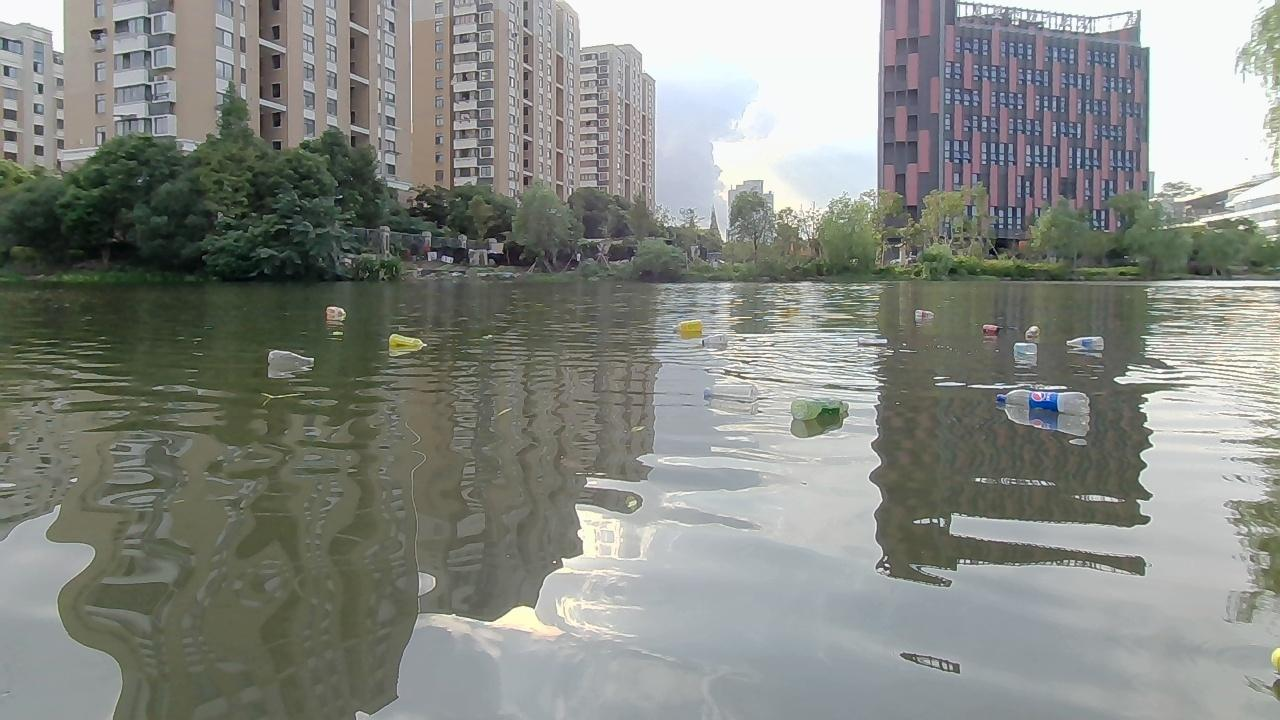bottle: (998, 383, 1086, 427), (789, 395, 855, 423), (700, 383, 759, 412), (385, 330, 436, 358), (264, 346, 316, 372), (671, 312, 707, 337), (1064, 332, 1106, 351), (696, 331, 729, 348), (855, 332, 890, 348), (980, 320, 1001, 337), (325, 306, 346, 322), (1014, 342, 1036, 357), (914, 308, 935, 322), (1026, 322, 1041, 341)
